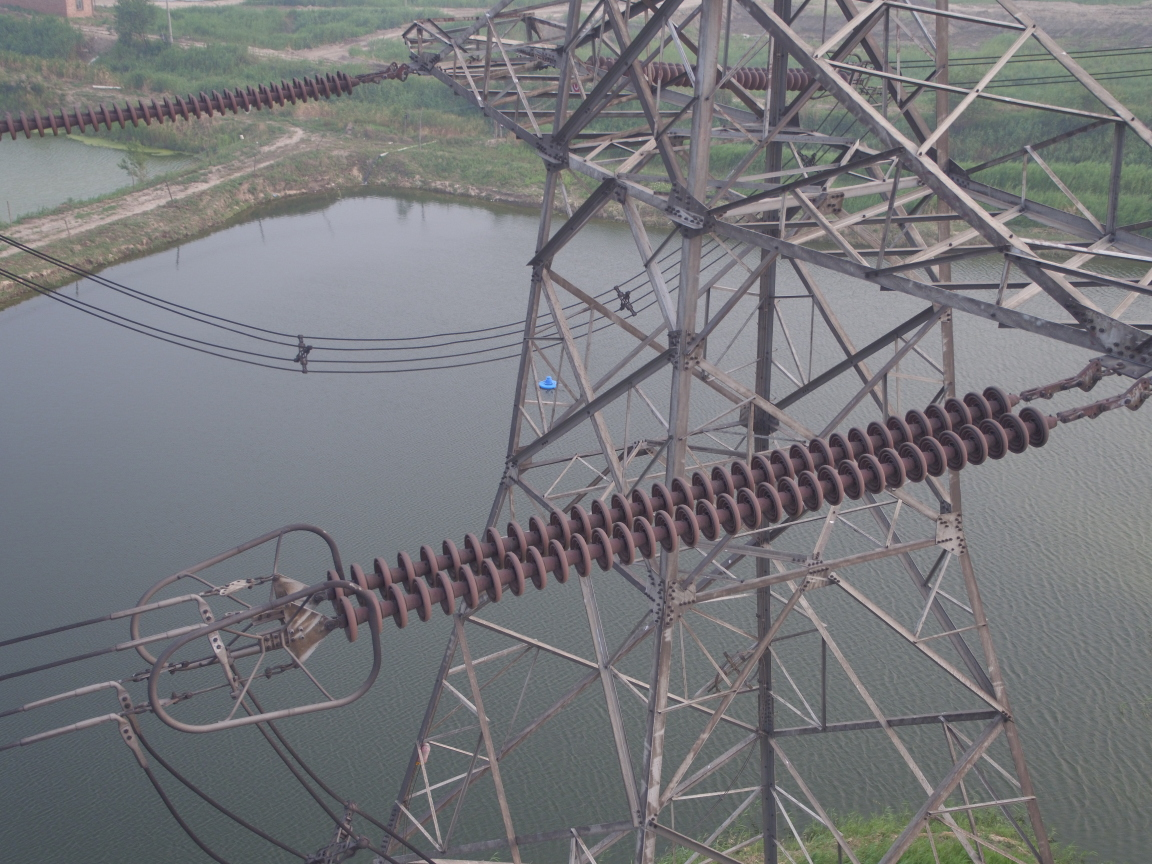insulator: (320, 378, 1076, 646), (1, 68, 348, 142)
